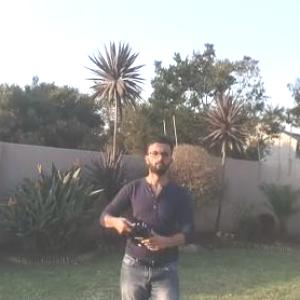follow: (96, 128, 204, 299)
